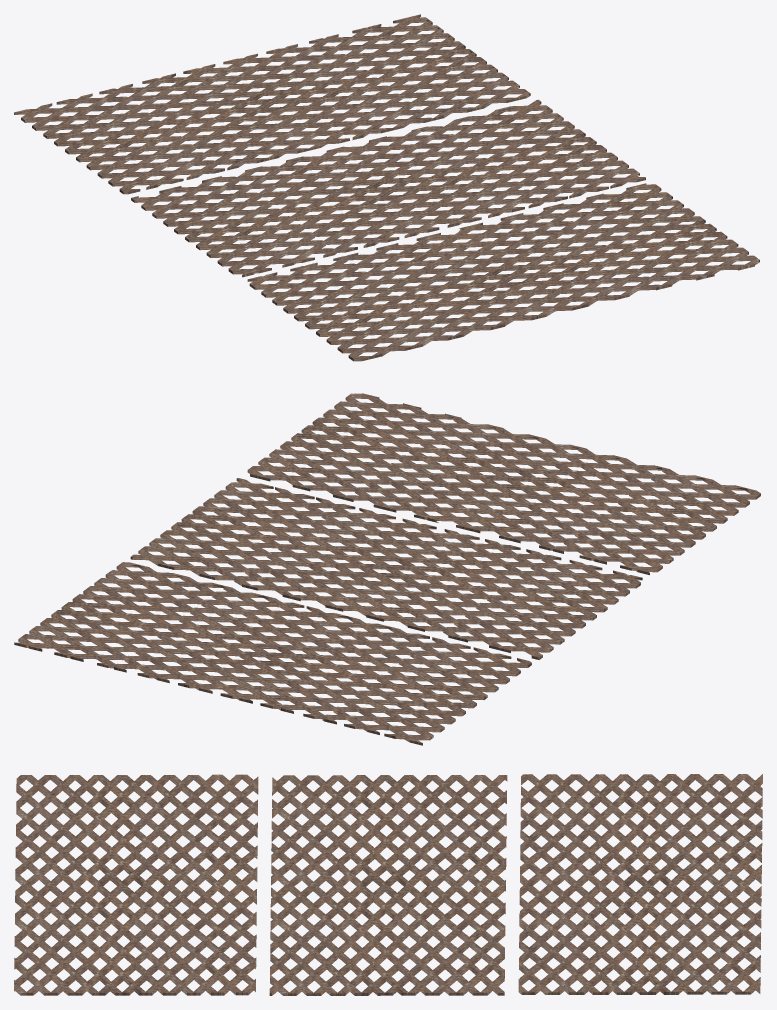
File: SM_NeoLD_09_WireMesh_Col.fbx
The picture shows the model from 3 angles, top to bottom: view 1: azimuth 30°, elevation 25°; view 2: azimuth 150°, elevation 25°; view 3: azimuth 270°, elevation 25°; orthographic projection. The views are drawn at different scales.
Parts seen in each view (by area): view 1: SM_NeoLD_09_WireMesh_Col; view 2: SM_NeoLD_09_WireMesh_Col; view 3: SM_NeoLD_09_WireMesh_Col.
Part boxes in pixels (left/top/right/bottom): SM_NeoLD_09_WireMesh_Col: left=14, top=14, right=759, bottom=361; SM_NeoLD_09_WireMesh_Col: left=14, top=393, right=760, bottom=745; SM_NeoLD_09_WireMesh_Col: left=14, top=774, right=762, bottom=995.
Bounding box in the file's own units: 613 × 4.26 × 885.
